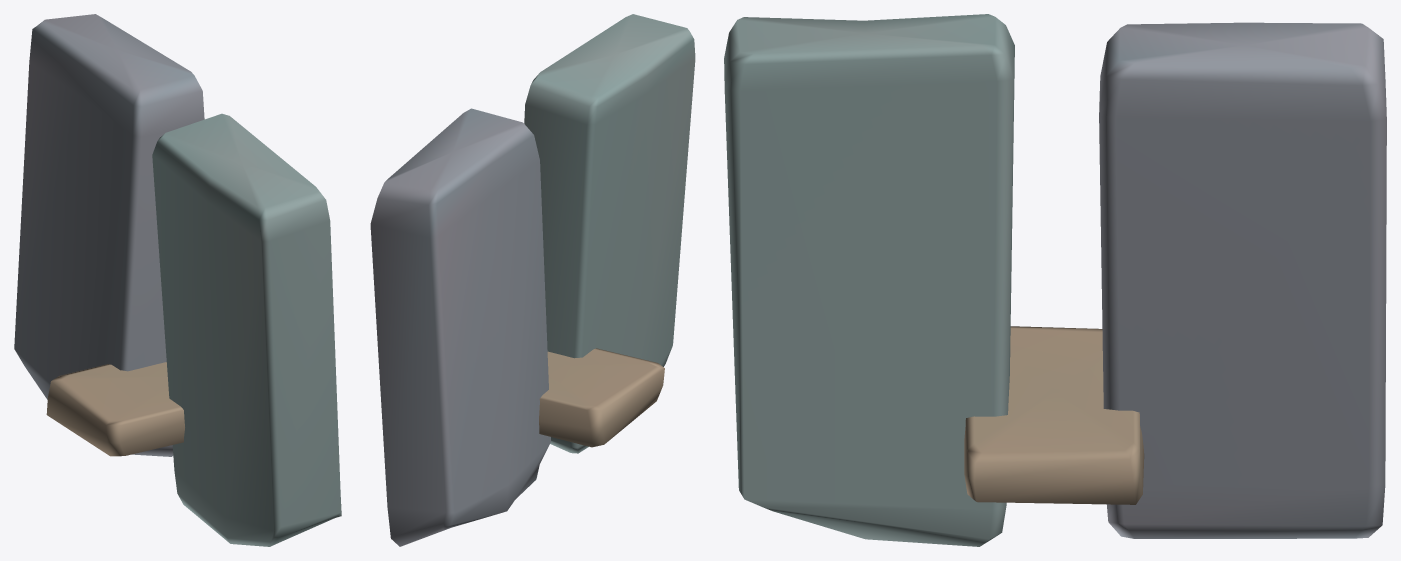
The model's file is SM_Prop_stile_2.glb.
3 views of the same model, side by side, from view 1: azimuth 30°, elevation 25°; view 2: azimuth 150°, elevation 25°; view 3: azimuth 270°, elevation 25° (orthographic). The views are drawn at different scales.
Parts seen in each view (by area): view 1: SM_Prop_stile_2; view 2: SM_Prop_stile_2; view 3: SM_Prop_stile_2.
Part boxes in pixels (bbox=[...]): SM_Prop_stile_2: bbox=[14, 14, 341, 546]; SM_Prop_stile_2: bbox=[370, 14, 695, 546]; SM_Prop_stile_2: bbox=[724, 14, 1386, 546].
Size of the model in its own units: 0.701 by 1.22 by 1.47.
